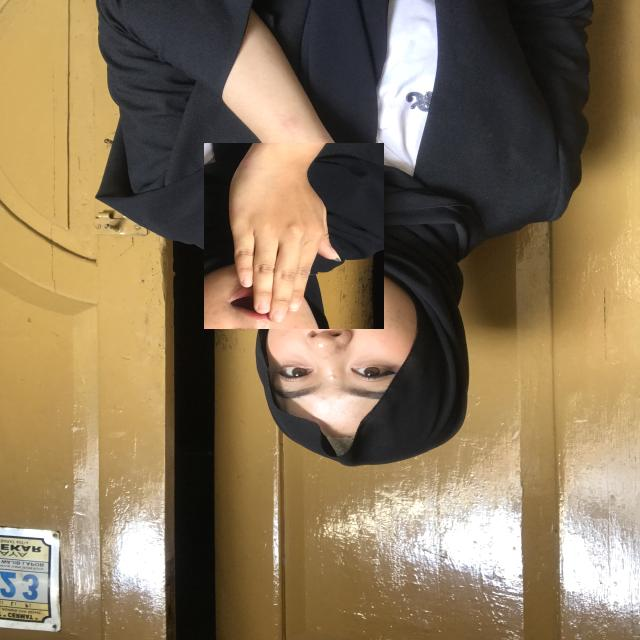ngantuk: (204, 143, 384, 329)
